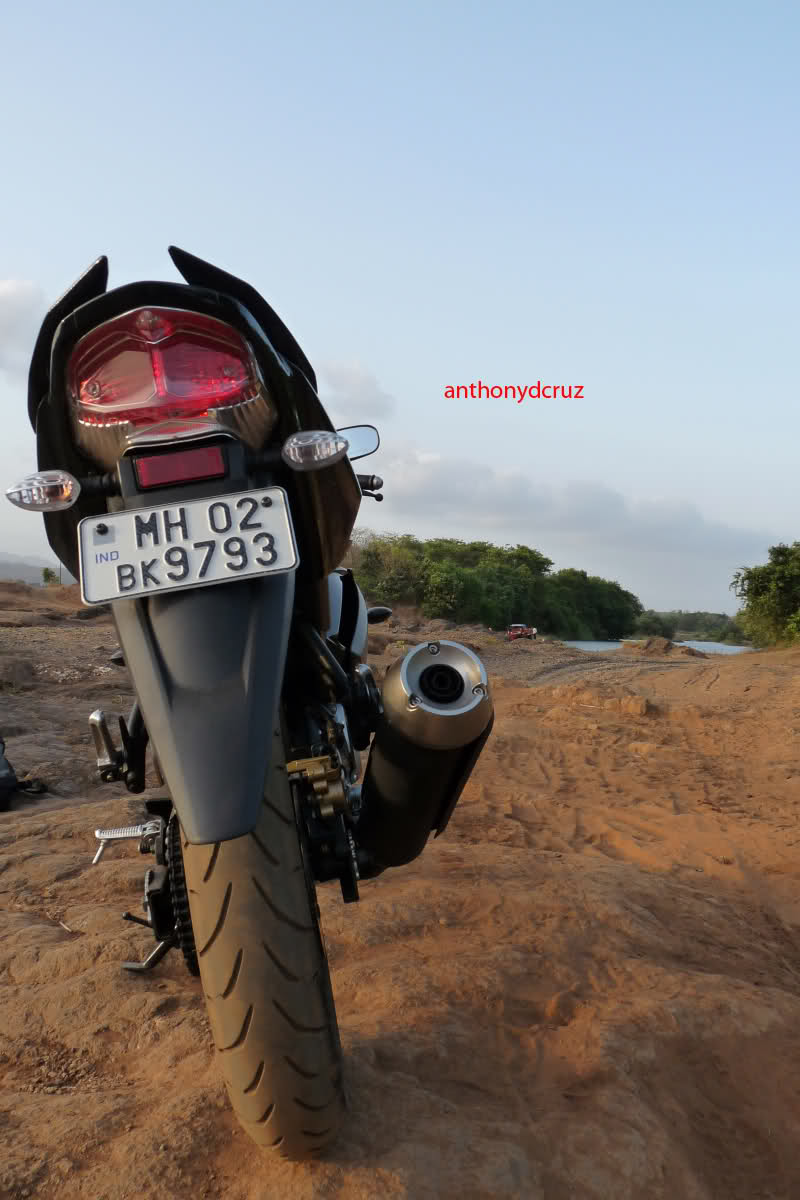number_plate: (53, 479, 317, 606)
